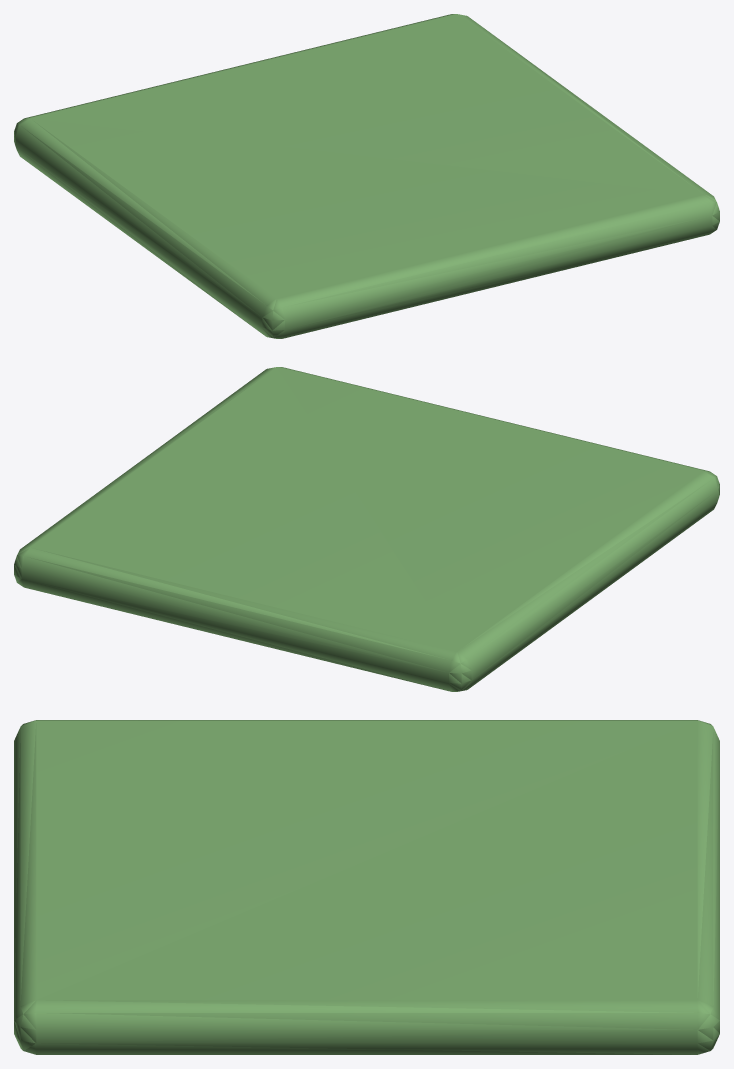
Rendered from DW_Tile.fbx.
3 views of the same model, one above another, from view 1: azimuth 30°, elevation 25°; view 2: azimuth 150°, elevation 25°; view 3: azimuth 270°, elevation 25° (orthographic). The views are drawn at different scales.
Visible parts, largest first — view 1: DW_Tile; view 2: DW_Tile; view 3: DW_Tile.
Part boxes in pixels (left/top/right/bottom): DW_Tile: left=14, top=14, right=719, bottom=338; DW_Tile: left=14, top=367, right=719, bottom=691; DW_Tile: left=14, top=720, right=719, bottom=1054.
Size of the model in its own units: 0.95 by 0.08 by 0.95.
